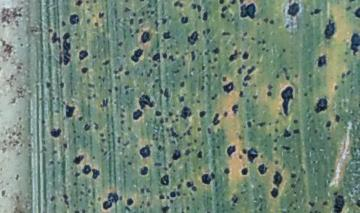tarspot: (282, 87, 293, 117), (1, 8, 23, 22), (62, 32, 71, 65), (138, 94, 156, 109), (102, 193, 117, 209), (241, 3, 255, 19), (334, 195, 346, 213), (325, 19, 335, 40), (351, 34, 360, 57), (315, 98, 327, 113), (247, 148, 258, 164), (272, 170, 282, 187), (131, 49, 144, 62), (287, 3, 300, 16), (139, 145, 151, 158), (50, 32, 62, 44), (187, 31, 198, 44), (181, 107, 192, 120), (222, 82, 234, 93), (2, 41, 13, 53), (65, 105, 75, 118), (228, 49, 238, 62), (256, 163, 267, 174), (50, 128, 62, 138), (169, 126, 179, 138), (226, 144, 236, 156), (201, 173, 211, 185), (69, 14, 79, 25), (78, 49, 88, 60), (73, 155, 84, 165), (132, 109, 143, 119), (281, 127, 291, 138), (141, 31, 150, 43), (212, 112, 220, 125), (270, 187, 279, 198), (62, 192, 69, 206), (318, 55, 326, 67), (153, 19, 160, 32), (99, 98, 109, 107), (201, 11, 209, 22), (173, 150, 181, 161), (92, 168, 100, 179), (164, 87, 171, 99), (140, 166, 149, 175), (83, 165, 92, 174), (231, 104, 239, 114), (161, 175, 169, 185), (173, 1, 184, 8), (86, 81, 95, 89), (176, 95, 185, 103), (247, 65, 255, 74), (313, 7, 322, 15), (240, 166, 248, 175), (161, 205, 170, 213), (126, 197, 134, 206), (281, 144, 291, 151), (334, 113, 341, 123), (255, 121, 266, 127), (212, 47, 220, 55), (183, 148, 191, 156), (292, 127, 300, 135), (289, 172, 297, 180), (152, 53, 161, 60), (195, 4, 202, 13), (196, 150, 203, 159), (242, 51, 249, 60), (190, 49, 195, 61), (81, 67, 89, 74), (47, 159, 55, 166), (83, 123, 91, 130), (163, 32, 171, 39), (161, 52, 168, 60), (168, 55, 176, 62), (124, 204, 131, 212), (355, 7, 360, 18), (153, 161, 162, 167), (243, 75, 252, 81), (222, 30, 231, 36), (232, 194, 238, 203), (58, 55, 63, 65), (155, 110, 162, 117), (190, 3, 197, 10), (266, 90, 273, 97), (220, 12, 227, 19), (268, 18, 275, 25), (321, 200, 328, 207), (139, 187, 146, 194), (74, 171, 81, 178), (13, 193, 20, 200), (45, 81, 51, 89), (59, 81, 65, 89), (51, 149, 59, 155), (102, 59, 110, 65), (156, 144, 162, 152), (180, 17, 188, 23), (206, 127, 212, 135), (246, 121, 252, 129), (238, 90, 244, 98), (210, 171, 216, 179), (170, 190, 176, 198), (75, 1, 82, 7), (98, 12, 105, 18), (62, 142, 68, 149), (123, 140, 130, 146), (114, 74, 121, 80), (129, 18, 135, 25), (161, 17, 167, 24), (181, 60, 187, 67), (170, 81, 176, 88), (179, 80, 185, 87), (186, 129, 192, 136), (199, 111, 206, 117), (223, 168, 230, 174), (211, 94, 218, 100), (267, 83, 273, 90), (237, 68, 243, 75), (307, 72, 313, 79), (345, 6, 352, 12), (333, 85, 339, 92), (352, 146, 358, 153), (308, 201, 315, 207), (94, 122, 99, 130), (123, 7, 131, 12), (356, 199, 360, 209), (47, 27, 53, 33), (118, 41, 124, 47), (114, 9, 118, 18), (138, 18, 144, 24), (149, 9, 155, 15), (204, 49, 210, 55), (207, 58, 213, 64), (199, 85, 205, 91), (195, 98, 201, 104), (199, 140, 205, 146), (273, 127, 279, 133), (325, 121, 331, 127), (252, 94, 258, 100), (284, 23, 290, 29), (293, 73, 299, 79), (332, 191, 338, 197), (290, 183, 296, 189), (80, 182, 86, 188), (14, 174, 20, 180), (41, 118, 46, 125), (98, 65, 103, 72), (118, 64, 123, 71), (151, 133, 156, 140), (153, 78, 160, 83), (168, 111, 173, 118), (165, 126, 170, 133), (223, 111, 228, 118), (242, 148, 247, 155), (329, 168, 336, 173), (275, 73, 280, 80), (282, 68, 289, 73), (341, 72, 346, 79), (187, 182, 194, 187), (146, 200, 151, 207), (1, 190, 6, 197), (9, 74, 14, 81), (123, 85, 131, 89), (172, 69, 180, 73), (230, 1, 238, 5), (177, 190, 181, 198), (61, 21, 66, 27), (86, 18, 91, 24), (94, 21, 99, 27), (54, 109, 60, 114), (78, 117, 84, 122), (114, 86, 119, 92), (127, 161, 133, 166), (127, 126, 132, 132), (119, 119, 125, 124), (119, 113, 125, 118), (120, 108, 126, 113), (159, 118, 164, 124), (164, 117, 169, 123), (148, 67, 153, 73), (159, 89, 164, 95), (135, 28, 140, 34), (165, 45, 171, 50), (174, 50, 180, 55), (210, 65, 216, 70), (200, 74, 205, 80), (196, 127, 202, 132), (215, 145, 221, 150), (222, 76, 227, 82), (237, 155, 243, 160), (259, 153, 264, 159), (273, 145, 278, 151), (326, 135, 331, 141), (302, 92, 308, 97), (245, 98, 250, 104), (242, 82, 248, 87), (222, 6, 228, 11), (243, 31, 248, 37), (240, 36, 245, 42), (256, 40, 262, 45), (263, 18, 268, 24), (285, 75, 290, 81), (326, 179, 331, 185), (296, 176, 301, 182), (208, 195, 213, 201), (192, 186, 198, 191), (177, 184, 182, 190), (215, 201, 220, 207), (159, 195, 165, 200), (145, 188, 151, 193), (96, 196, 101, 202), (72, 181, 78, 186), (50, 196, 56, 201), (15, 139, 20, 145), (11, 131, 17, 136), (16, 131, 22, 136), (19, 41, 24, 47), (1, 138, 6, 144), (129, 27, 133, 34), (140, 71, 144, 78), (147, 2, 151, 9), (206, 38, 210, 45), (201, 64, 205, 71), (345, 39, 349, 46), (347, 69, 351, 76), (180, 176, 184, 183), (186, 205, 190, 212), (87, 187, 91, 194), (73, 202, 77, 209), (16, 66, 23, 70), (91, 13, 96, 18), (73, 32, 78, 37), (27, 143, 32, 148), (56, 160, 61, 165), (70, 122, 75, 127), (103, 151, 108, 156), (101, 138, 106, 143), (100, 133, 105, 138), (92, 55, 97, 60), (101, 77, 106, 82), (124, 70, 129, 75), (132, 12, 137, 17), (163, 166, 168, 171), (146, 73, 151, 78), (153, 63, 158, 68), (141, 12, 146, 17), (147, 14, 152, 19), (197, 15, 202, 20), (184, 51, 189, 56), (183, 74, 188, 79), (206, 29, 211, 34), (201, 30, 206, 35), (205, 81, 210, 86), (171, 119, 176, 124), (274, 160, 279, 165), (273, 138, 278, 143), (251, 118, 256, 123), (274, 119, 279, 124), (311, 159, 316, 164), (311, 146, 316, 151), (293, 119, 298, 124), (241, 64, 246, 69), (231, 42, 236, 47), (250, 36, 255, 41), (261, 39, 266, 44), (255, 60, 260, 65), (265, 48, 270, 53), (289, 16, 294, 21), (258, 207, 263, 212), (189, 191, 194, 196), (166, 195, 171, 200), (122, 169, 127, 174), (138, 204, 143, 209), (75, 44, 79, 50), (70, 165, 74, 171), (117, 136, 121, 142), (124, 91, 130, 95), (113, 70, 119, 74), (122, 19, 128, 23), (136, 82, 140, 88), (218, 1, 224, 5), (214, 57, 218, 63), (168, 162, 172, 168), (198, 164, 202, 170), (238, 134, 242, 140), (277, 112, 283, 116), (282, 7, 286, 13), (305, 22, 309, 28), (119, 195, 123, 201), (73, 210, 80, 213), (51, 96, 56, 100), (92, 155, 96, 160), (87, 95, 92, 99), (93, 94, 97, 99), (97, 75, 102, 79), (108, 88, 112, 93), (113, 100, 117, 105), (124, 155, 129, 159), (121, 147, 126, 151), (130, 34, 135, 38), (161, 129, 165, 134), (145, 10, 150, 14), (168, 15, 172, 20), (171, 104, 176, 108), (171, 140, 176, 144), (178, 136, 183, 140), (182, 131, 186, 136), (188, 125, 193, 129), (186, 142, 191, 146), (191, 147, 195, 152), (217, 127, 221, 132), (211, 138, 216, 142), (268, 132, 272, 137), (263, 143, 268, 147), (314, 129, 318, 134), (238, 50, 242, 55), (231, 17, 235, 22), (227, 18, 231, 23), (256, 21, 260, 26), (282, 48, 286, 53), (310, 11, 314, 16), (344, 51, 349, 55), (341, 80, 345, 85), (293, 190, 297, 195), (257, 184, 262, 188), (232, 203, 236, 208), (191, 197, 196, 201), (197, 206, 201, 211), (170, 199, 174, 204), (90, 201, 94, 206), (80, 190, 84, 195), (79, 197, 83, 202), (77, 133, 80, 139), (123, 1, 129, 4), (194, 138, 197, 144), (314, 210, 320, 213), (181, 207, 184, 213), (87, 8, 91, 12), (73, 130, 77, 134), (101, 148, 105, 152), (107, 134, 111, 138), (123, 54, 127, 58), (152, 85, 156, 89), (199, 52, 203, 56), (214, 74, 218, 78), (175, 114, 179, 118), (175, 118, 179, 122), (242, 125, 246, 129), (268, 122, 272, 126), (227, 4, 231, 8), (343, 58, 347, 62), (350, 191, 354, 195), (355, 187, 359, 191), (295, 199, 299, 203), (240, 191, 244, 195), (183, 192, 187, 196), (82, 209, 86, 213), (59, 45, 62, 50), (156, 137, 159, 142), (149, 59, 152, 64), (182, 55, 185, 60), (206, 73, 209, 78), (239, 1, 244, 4), (260, 31, 265, 34), (286, 1, 293, 3), (349, 1, 356, 3), (63, 101, 66, 105), (139, 1, 145, 3), (189, 74, 193, 77), (173, 169, 176, 173), (254, 84, 257, 88), (262, 47, 265, 51), (293, 207, 297, 210), (289, 204, 293, 207), (303, 171, 306, 175), (358, 103, 360, 108), (86, 1, 89, 4), (142, 201, 145, 204), (93, 1, 97, 3), (175, 207, 177, 211), (192, 69, 195, 71), (311, 211, 314, 213)
